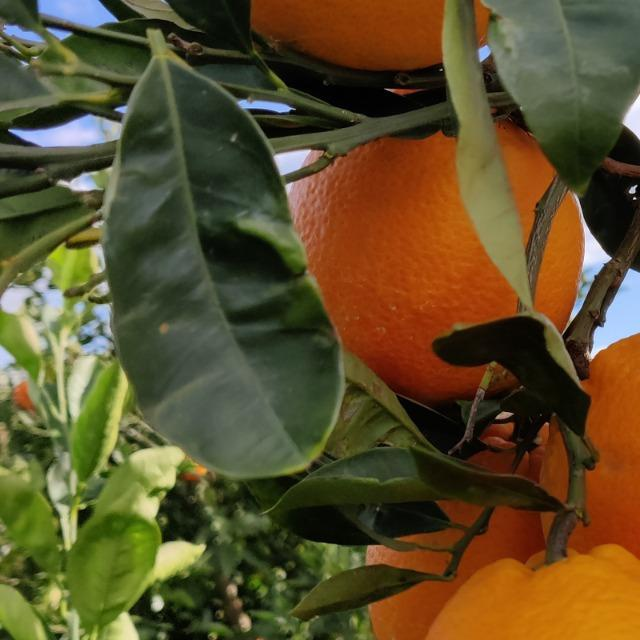orange: (260, 82, 592, 392), (350, 402, 560, 640), (140, 0, 578, 79), (539, 328, 640, 640), (360, 553, 640, 640)
